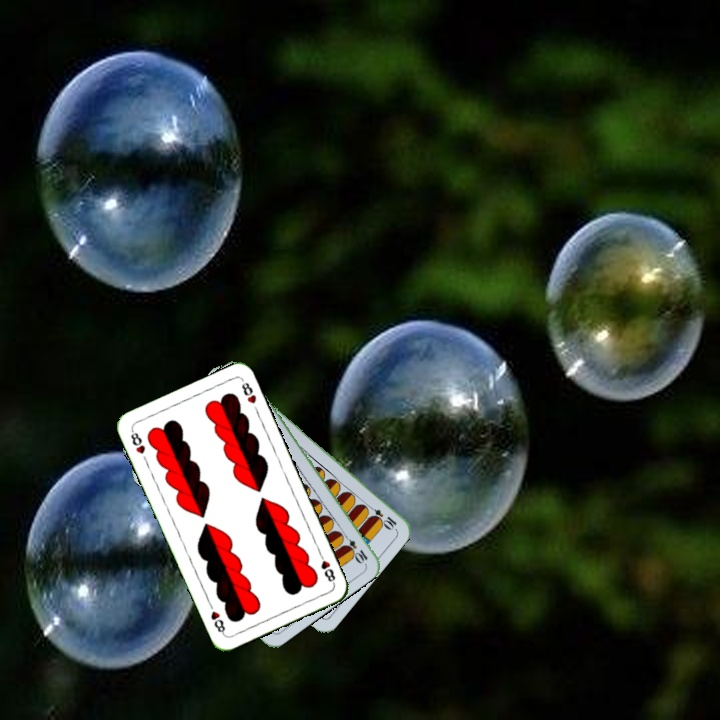E10: (338, 530, 370, 566), (363, 501, 399, 532)
H8: (315, 548, 338, 587), (127, 426, 148, 457)
